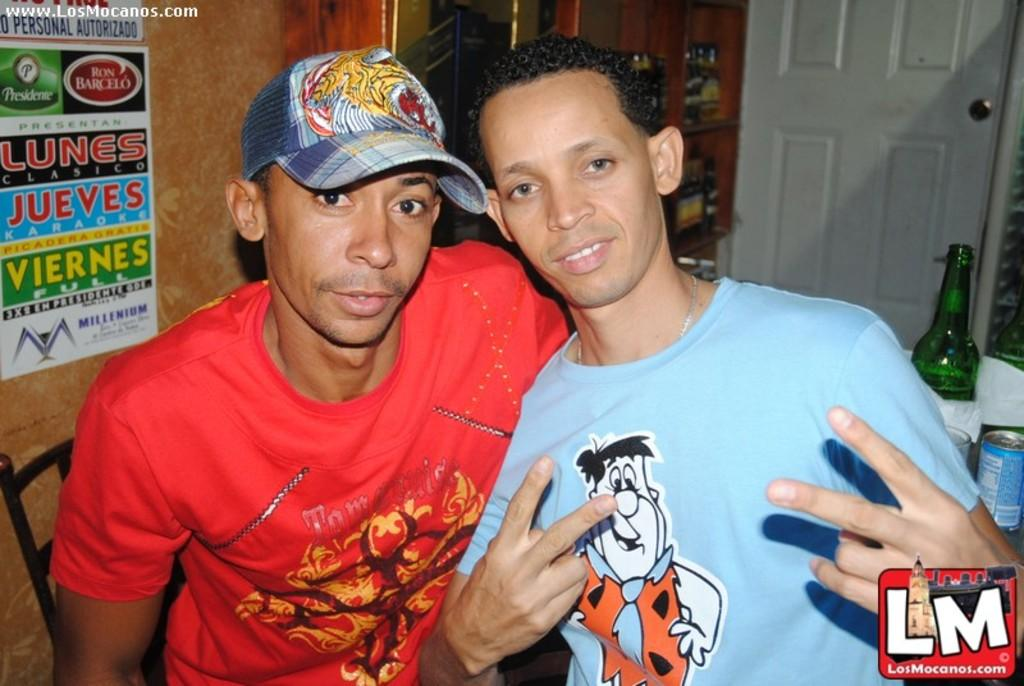Hat: (242, 42, 488, 214)
